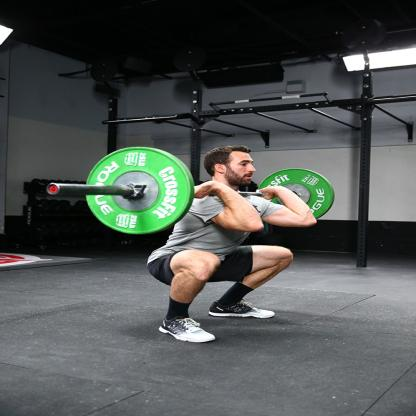barbell: (86, 147, 193, 236), (257, 169, 335, 222)
